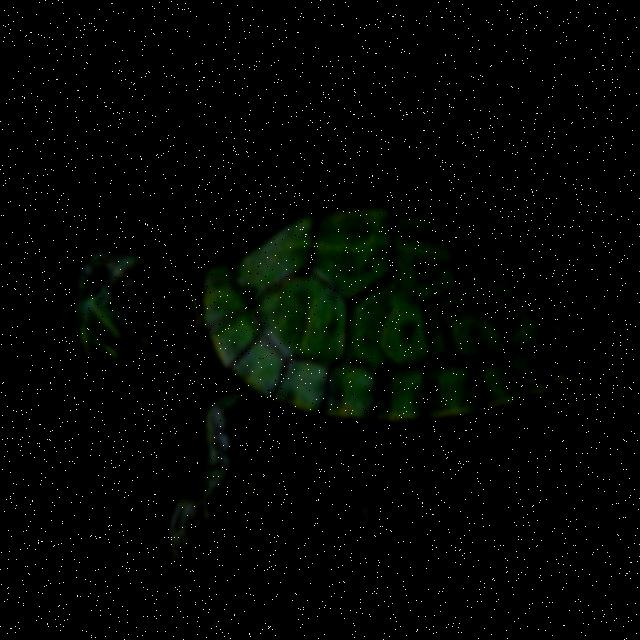tortoise: (64, 185, 582, 493)
